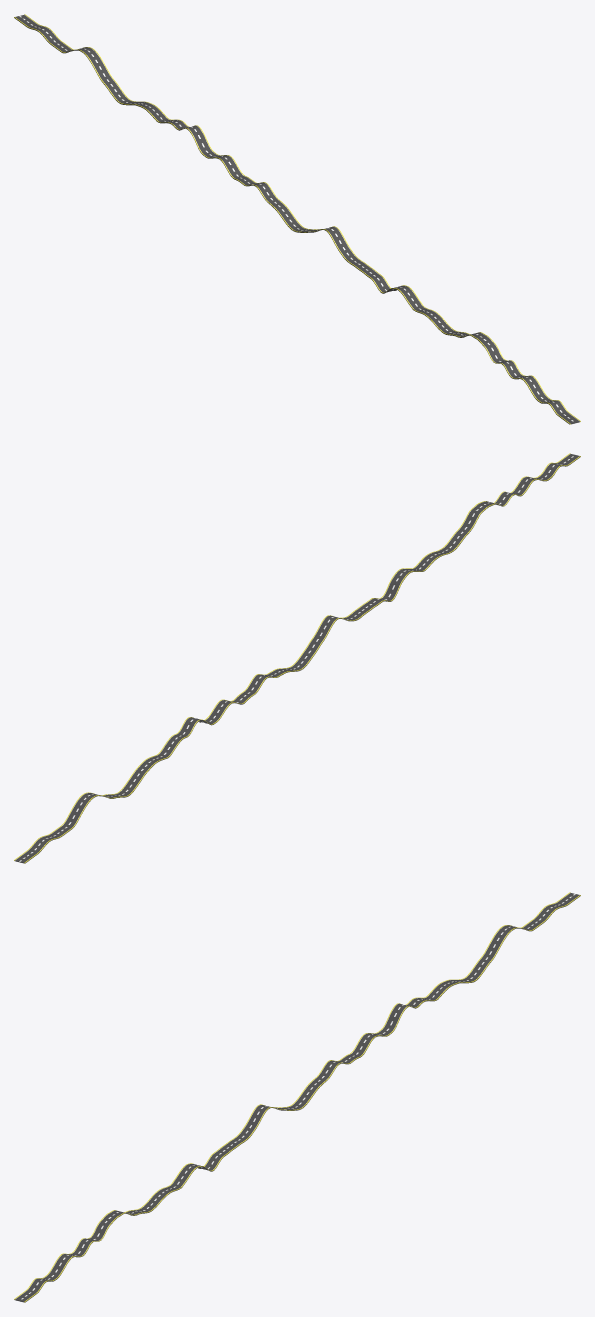
File: godtierplatform3.fbx
3 views of the same model, one above another, from view 1: azimuth 30°, elevation 25°; view 2: azimuth 150°, elevation 25°; view 3: azimuth 330°, elevation 25° (orthographic).
Visible parts, largest first — view 1: Plane.001; view 2: Plane.001; view 3: Plane.001.
Part boxes in pixels (x1,y1,x2,y2): Plane.001: (14,14,580,424); Plane.001: (14,453,580,863); Plane.001: (14,892,580,1302).
Bounding box in the file's own units: 577 × 1340 × 50000.
1 material, 1 textured.
